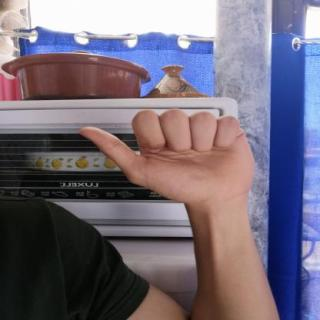DAD: (66, 101, 261, 214)
